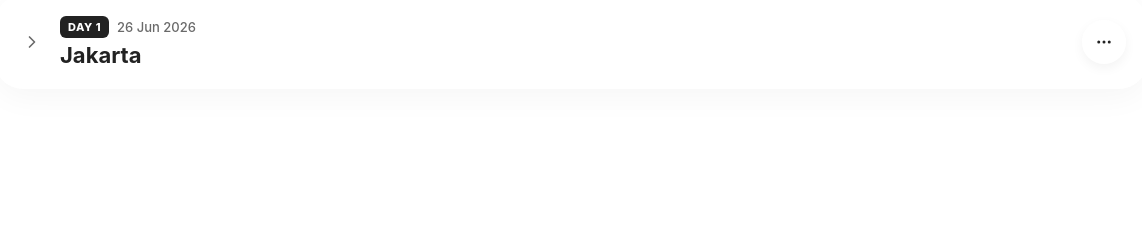
Test: DayTimeline › shows limit_reached day state
Click the button named "toggle collapse" at (32,42), box [16,26,48,58]
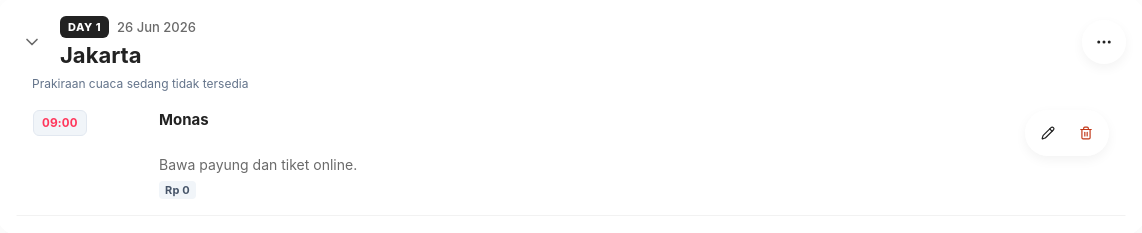
Expected: the text "Prakiraan cuaca sedang tidak tersedia" is shown, [32,76,248,91]
